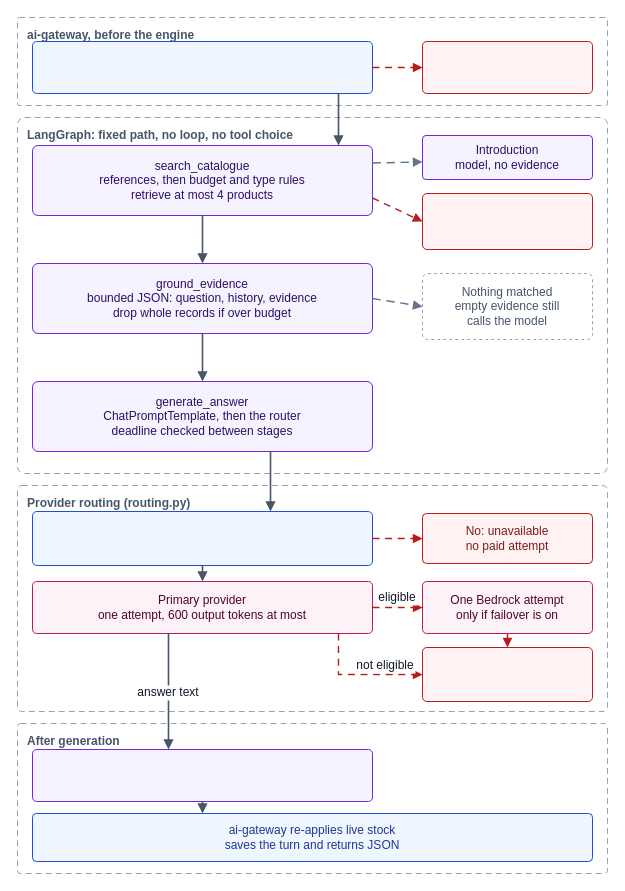
Image size: 625x891. Some labels were removed from this diagram. The shapes that lost their labels are listed below. From the top down, each one's centre as x and y in pixels, then its label:
At point 202,67: "Provider configured? snapshot and revision from MongoDB".
At point 507,67: "No: setup message no model call".
At point 507,221: "Clarification one question, no model".
At point 202,538: "Revision still current? GET /internal/llm/config, before each attempt".
At point 507,674: "Failure not saved, widget 503".
At point 202,775: "select_cards keep evidence SKUs, drop and count others".
